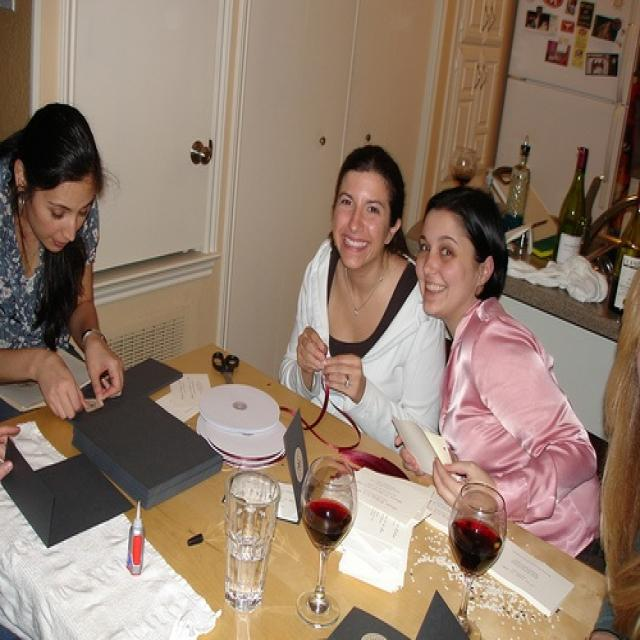bottle: (555, 142, 589, 270), (605, 196, 639, 316), (503, 135, 531, 232)
diningtable: (2, 342, 612, 638)
